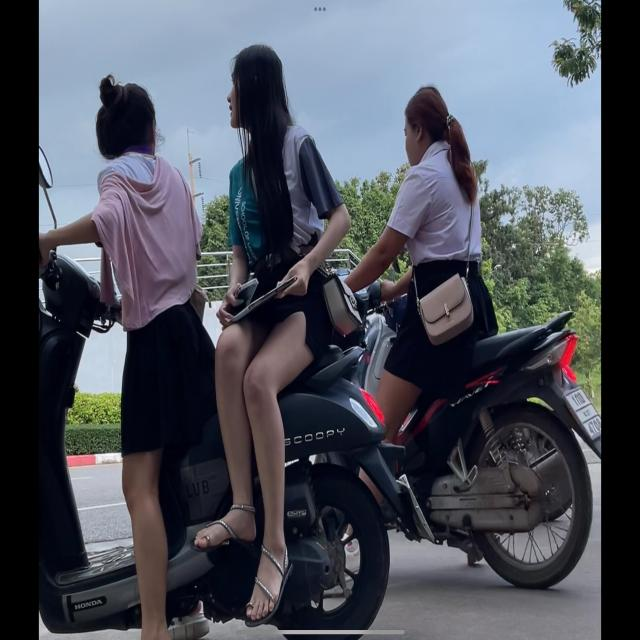seatbelt: (226, 41, 292, 132), (93, 75, 159, 163), (400, 82, 456, 168)
